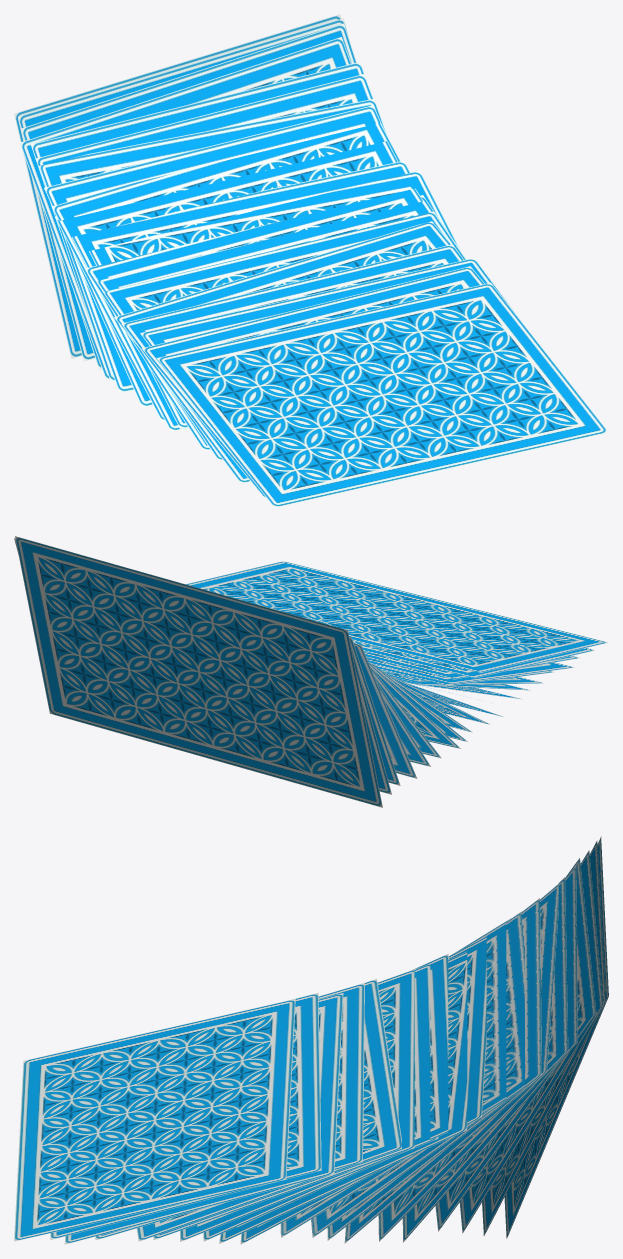
3 renders of one model, top to bottom at view 1: azimuth 30°, elevation 25°; view 2: azimuth 150°, elevation 25°; view 3: azimuth 270°, elevation 25°, orthographic. The views are drawn at different scales.
Visible parts, largest first — view 1: Cards; view 2: Cards; view 3: Cards.
Part boxes in pixels (x1,y1,x2,y2): Cards: [14, 14, 608, 507]; Cards: [14, 536, 608, 807]; Cards: [14, 836, 608, 1244].
Bounding box in the file's own units: 1.59 × 1 × 2.11.
1 material, 1 textured.
